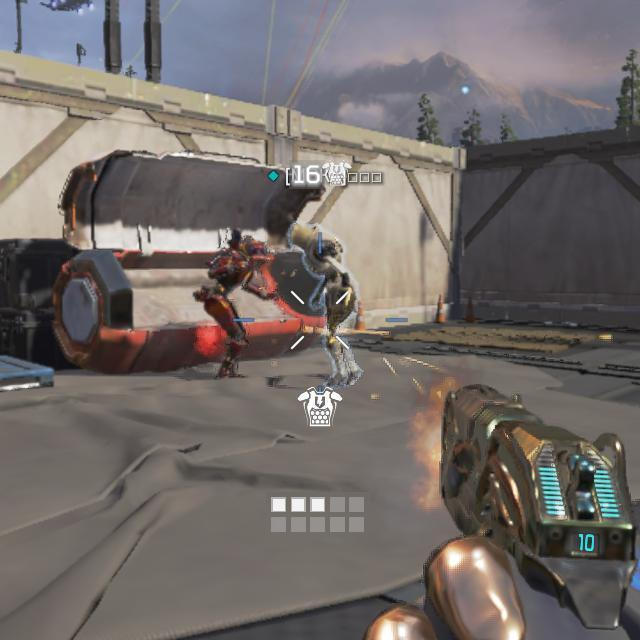avatar: (194, 228, 278, 379), (288, 225, 365, 387)
